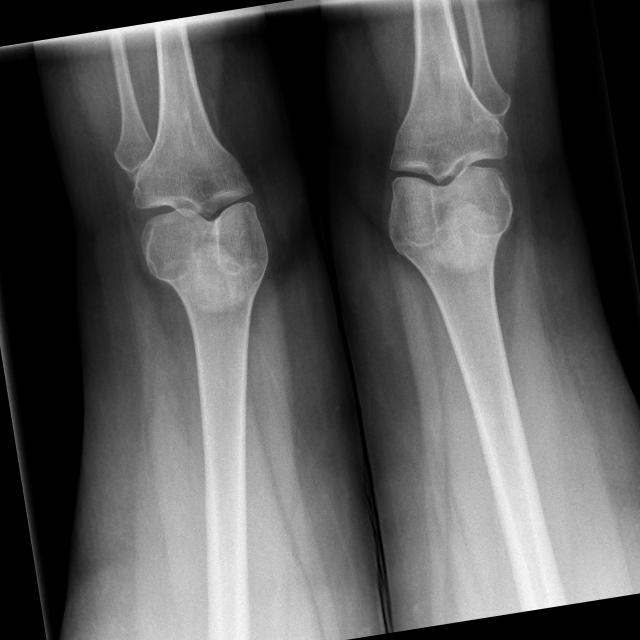Knee: (366, 95, 524, 258), (122, 142, 274, 296)
